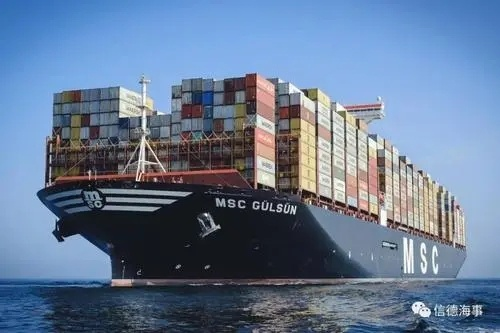Cargoship: (33, 72, 473, 286)
